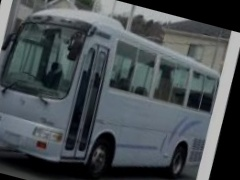bus: (0, 0, 230, 180)
